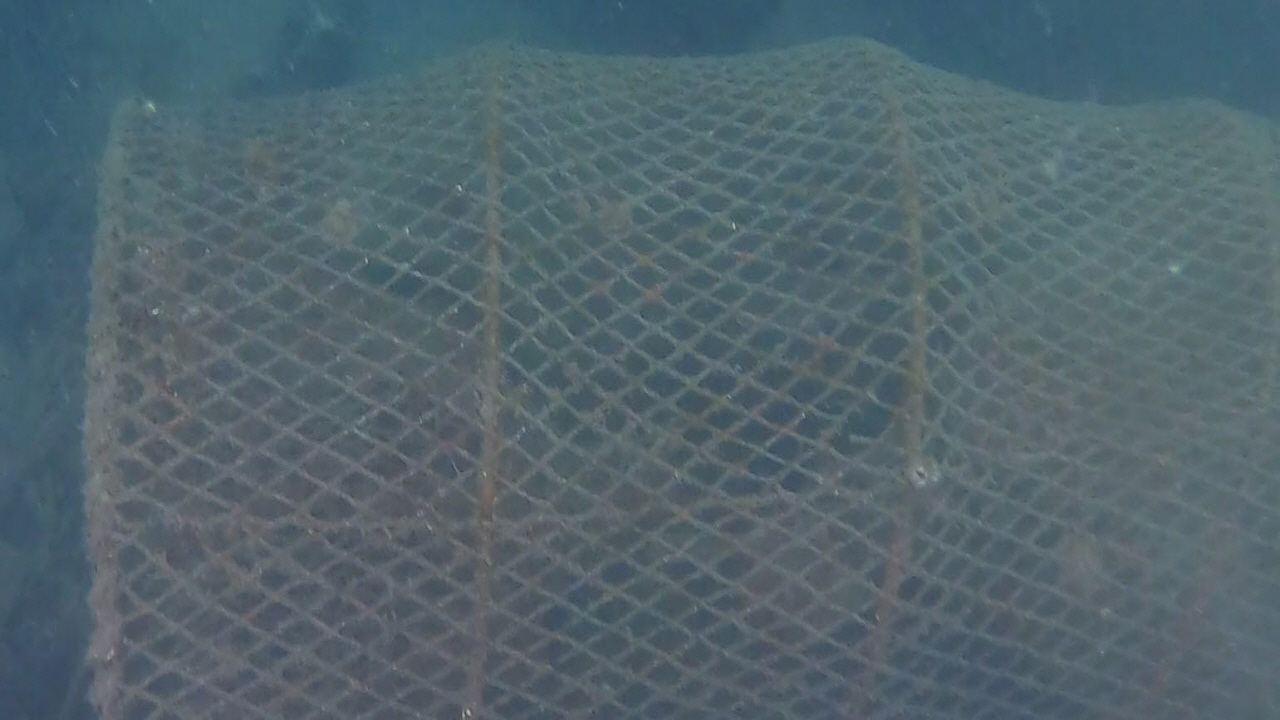spring fish trap: (81, 33, 1280, 720)
